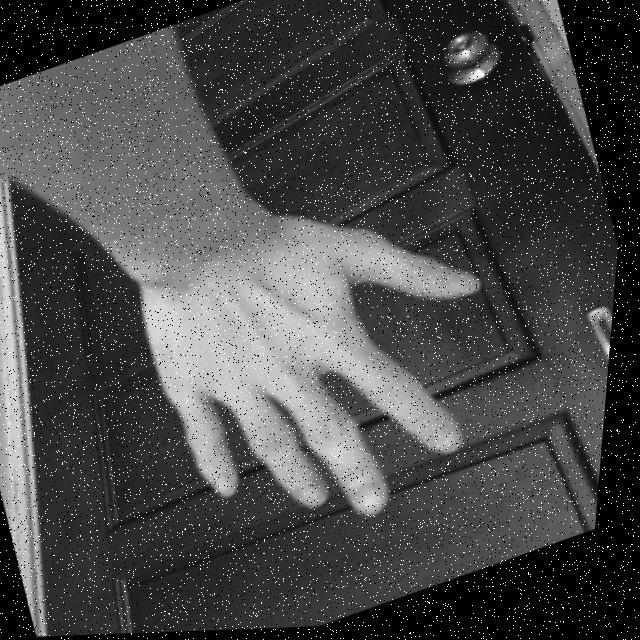no-gloves: (113, 162, 556, 586)
